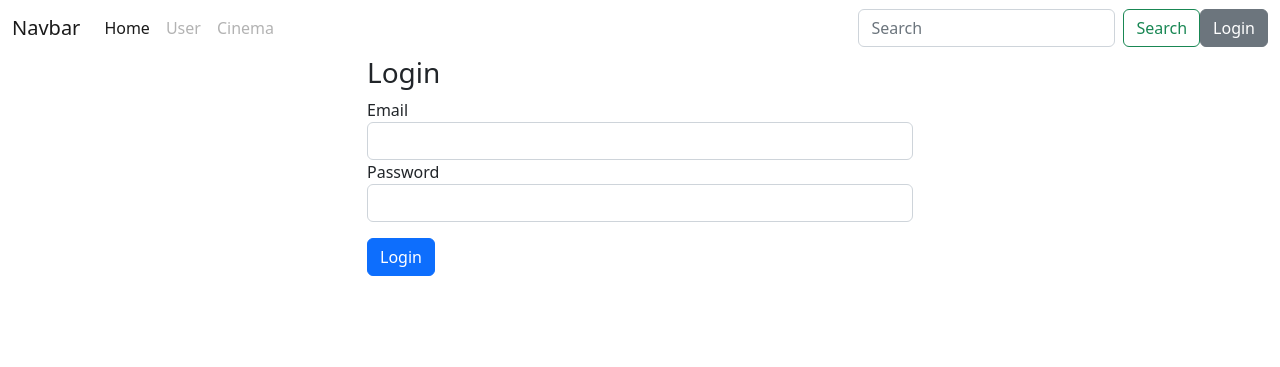
Scenario: My First Test › Login failed
Expected: the button "Login" in the row of "Cinema" is shown, [1200,9,1268,47]
Type "cd@gmail.com" into the field named "email" at (640, 141), box [367,122,913,160]
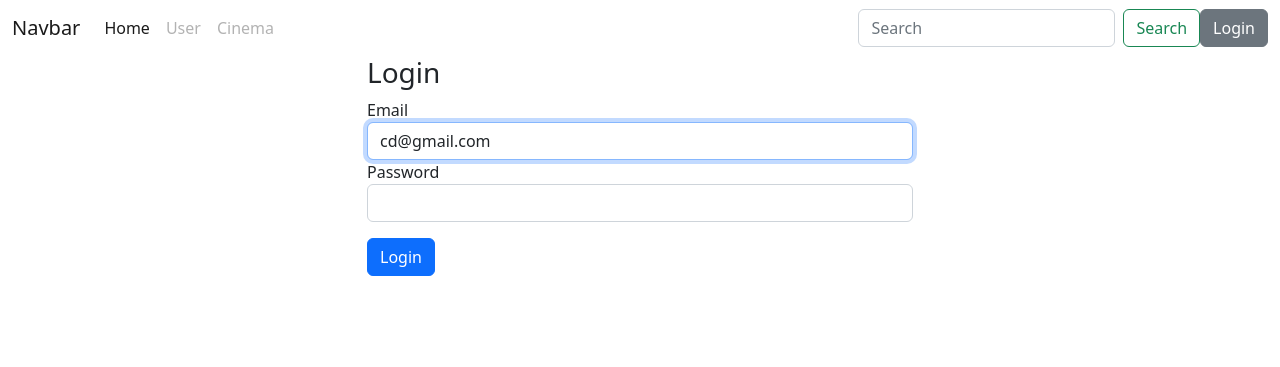
Type "test" into the password field named "password" at (640, 203), box [367,184,913,222]
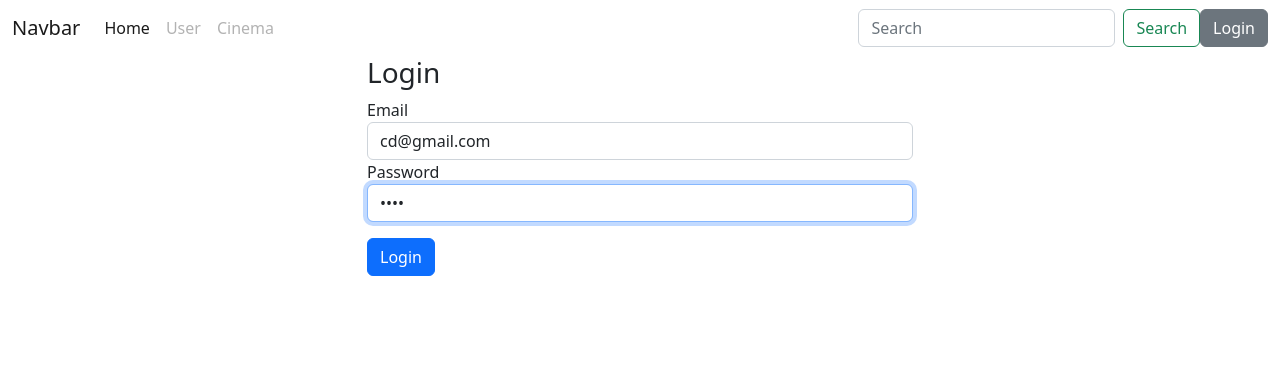
Click the submit button at (401, 257), box [367,238,435,276]
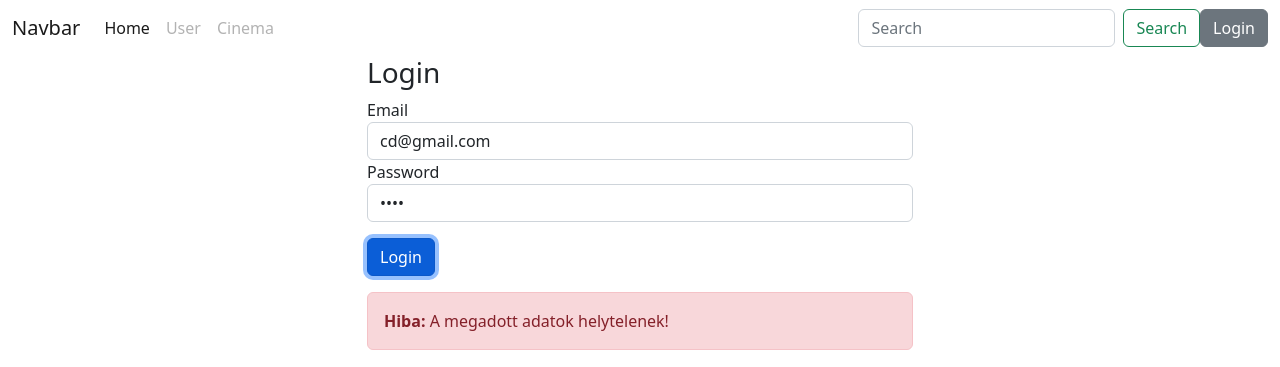
Expected: the text "Hiba: A megadott adatok helytelenek!" is shown, [367,292,913,350]
